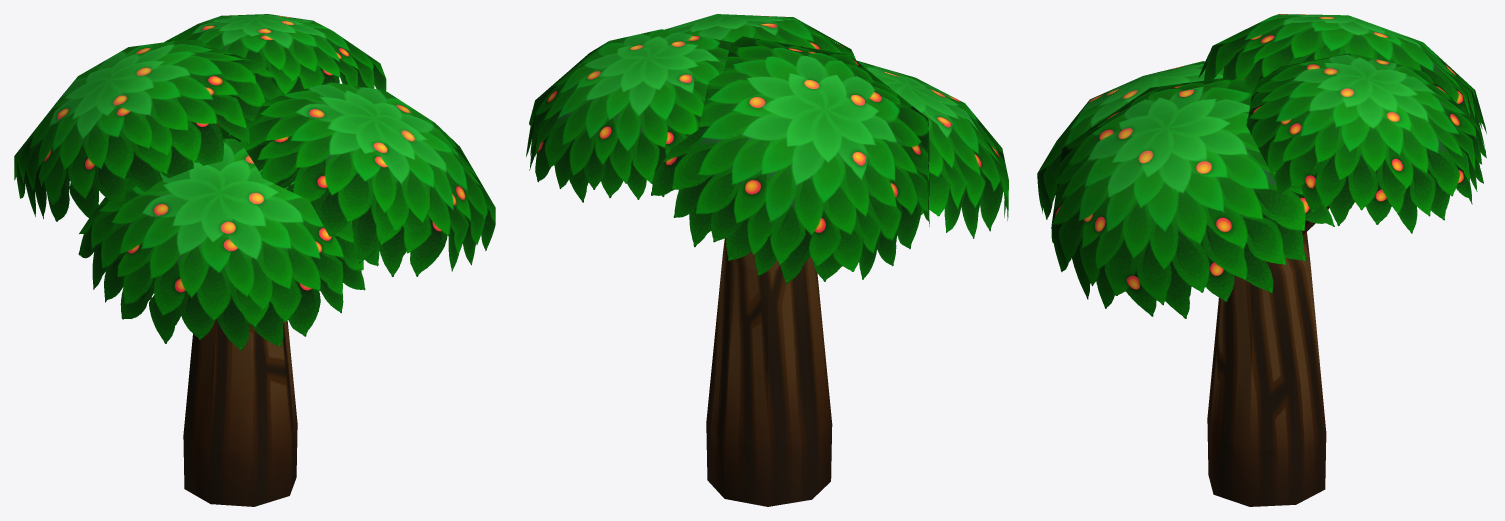
File: tree_resource.fbx
The picture shows the model from 3 angles, left to right: view 1: azimuth 30°, elevation 25°; view 2: azimuth 150°, elevation 25°; view 3: azimuth 270°, elevation 25°; orthographic projection. The views are drawn at different scales.
Parts seen in each view (by area): view 1: polySurface2, polySurface4, polySurface3; view 2: polySurface2, polySurface4, polySurface3; view 3: polySurface2, polySurface4, polySurface3.
Part boxes in pixels (<box>): polySurface2: <box>14,14,495,350</box>; polySurface4: <box>183,346,297,506</box>; polySurface3: <box>191,123,289,371</box>; polySurface2: <box>526,14,1008,283</box>; polySurface4: <box>706,338,832,506</box>; polySurface3: <box>714,238,823,361</box>; polySurface2: <box>1037,14,1486,318</box>; polySurface4: <box>1207,336,1326,506</box>; polySurface3: <box>1215,77,1318,364</box>.
Size of the model in its own units: 290 by 309 by 287.
